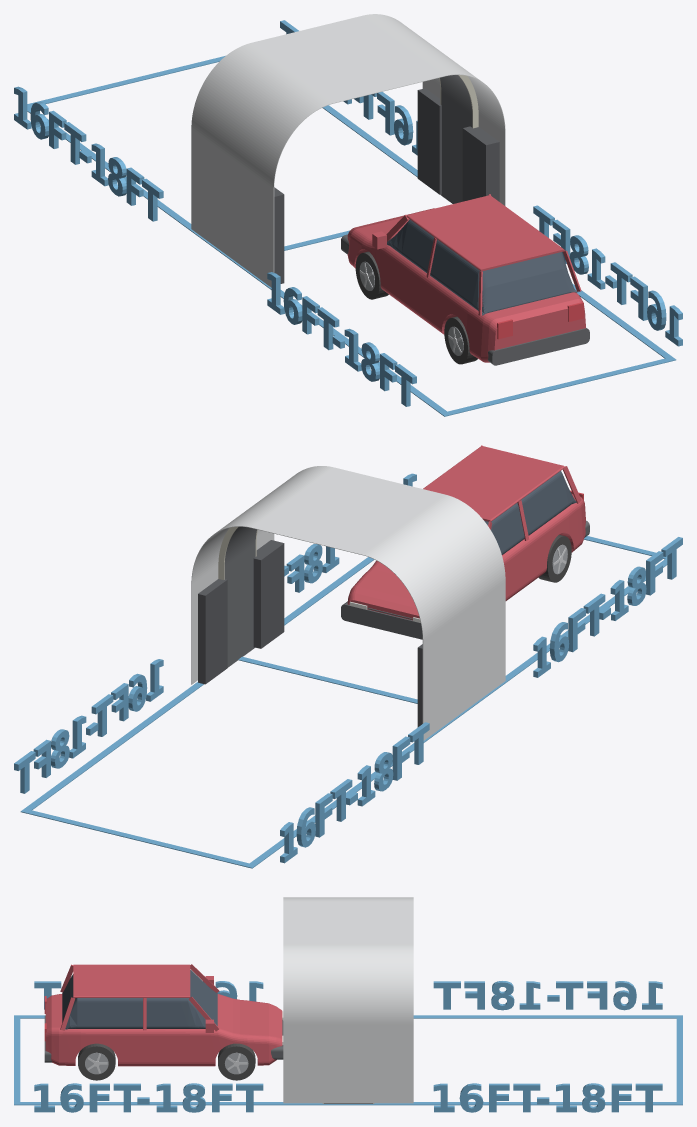
Rendered from colibri-xl-cover-suv.glb.
3 views of the same model, one above another, from view 1: azimuth 30°, elevation 25°; view 2: azimuth 150°, elevation 25°; view 3: azimuth 270°, elevation 25° (orthographic). The views are drawn at different scales.
Visible parts, largest first — view 1: sun_cover, vehicle_body, vehicle_glass, vehicle_roof, label_near_end_other_side, label_far_end_other_side, label_near_end, arch_shell, wing_1, wing_3, label_far_end, vehicle_bumper_rear (+7 smaller); view 2: sun_cover, vehicle_body, vehicle_roof, label_near_end_other_side, label_far_end_other_side, label_far_end, arch_shell, wing_1, vehicle_glass, wing_3, lane_right, label_near_end (+5 smaller); view 3: sun_cover, vehicle_body, vehicle_glass, vehicle_roof, label_near_end, label_far_end, label_far_end_other_side, lane_right, lane_left, vehicle_tire_front_r, label_near_end_other_side, vehicle_tire_rear_r (+4 smaller).
Boxes of the visible parts, x1,y1,x2,y2 form: sun_cover: (191,14,505,287); vehicle_body: (347,208,585,362); vehicle_glass: (387,219,577,315); vehicle_roof: (406,195,564,271); label_near_end_other_side: (267,272,416,406); label_far_end_other_side: (14,86,163,221); label_near_end: (533,205,682,346); arch_shell: (440,75,472,203); wing_1: (462,126,499,201); wing_3: (417,88,441,194); label_far_end: (280,20,417,155); vehicle_bumper_rear: (488,328,589,365); sun_cover: (191,466,505,740); vehicle_body: (347,494,585,620); vehicle_roof: (423,446,564,521); label_near_end_other_side: (533,537,682,677); label_far_end_other_side: (280,722,429,863); label_far_end: (14,659,163,793); arch_shell: (224,526,256,667); wing_1: (253,540,284,648); vehicle_glass: (484,471,576,554); wing_3: (198,579,227,684); lane_right: (20,557,374,813); label_near_end: (284,473,416,592); sun_cover: (283,897,413,1103); vehicle_body: (45,994,282,1066); vehicle_glass: (62,969,217,1029); vehicle_roof: (73,964,190,997); label_near_end: (34,1083,263,1112); label_far_end: (433,1083,662,1112); label_far_end_other_side: (433,981,662,1010); lane_right: (14,1102,682,1105); lane_left: (14,1015,682,1018); vehicle_tire_front_r: (218,1043,255,1080); label_near_end_other_side: (34,981,263,1009); vehicle_tire_rear_r: (78,1043,115,1080).
Size of the model in its own units: 4.74 by 2.91 by 12.86.
